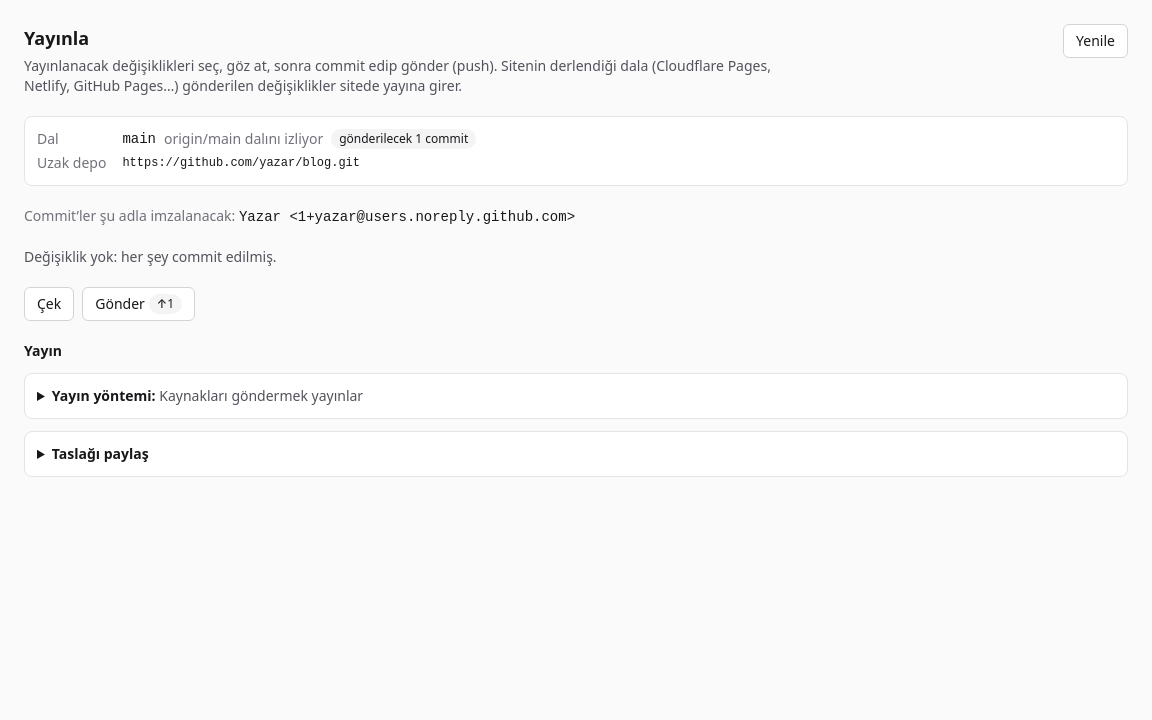
Test case: PublishView › follows a push: deploy status and the live page
Step 1. Click the button "Gönder ↑1" → (139, 304), box [82,287,195,321]
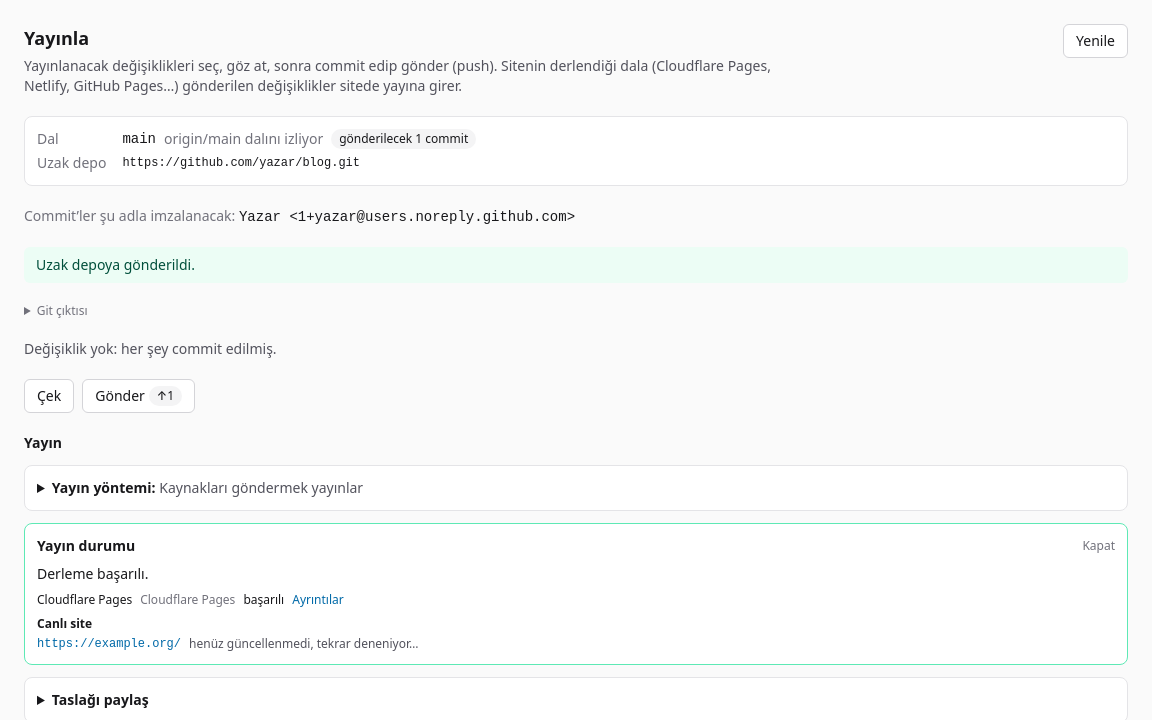
Check: the element named "Yayın durumu" shows "Derleme başarılı.", box [37,564,148,583]
Check: the element named "Yayın durumu" shows "Cloudflare Pages", box [37,591,132,608]
